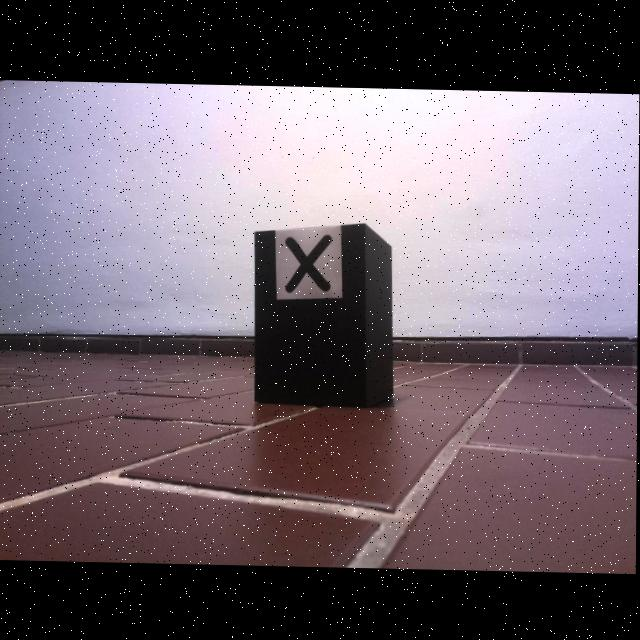X: (285, 233, 333, 292)
